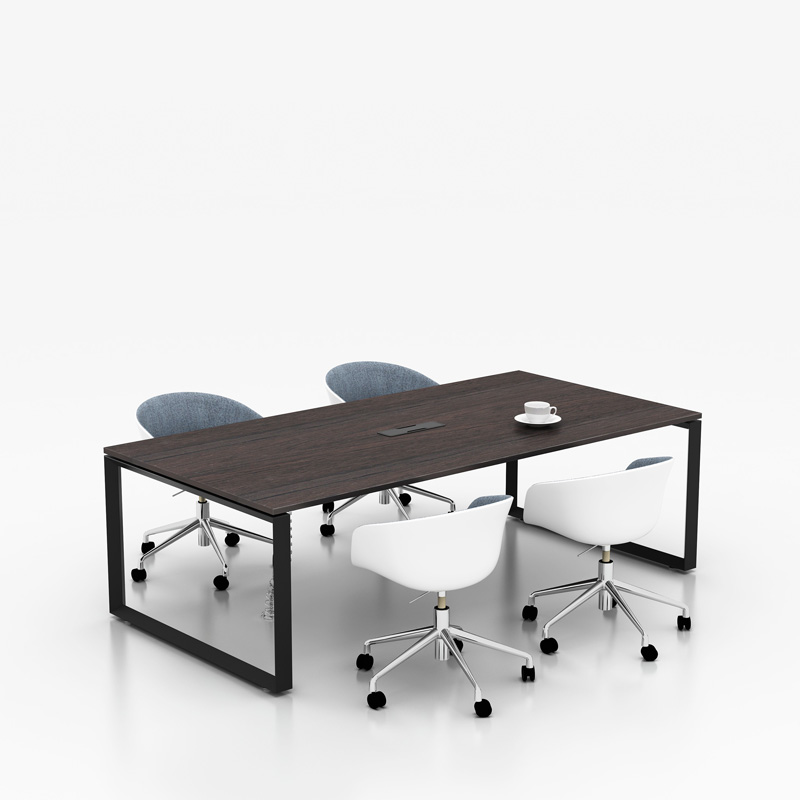conference_table: (103, 368, 702, 696)
